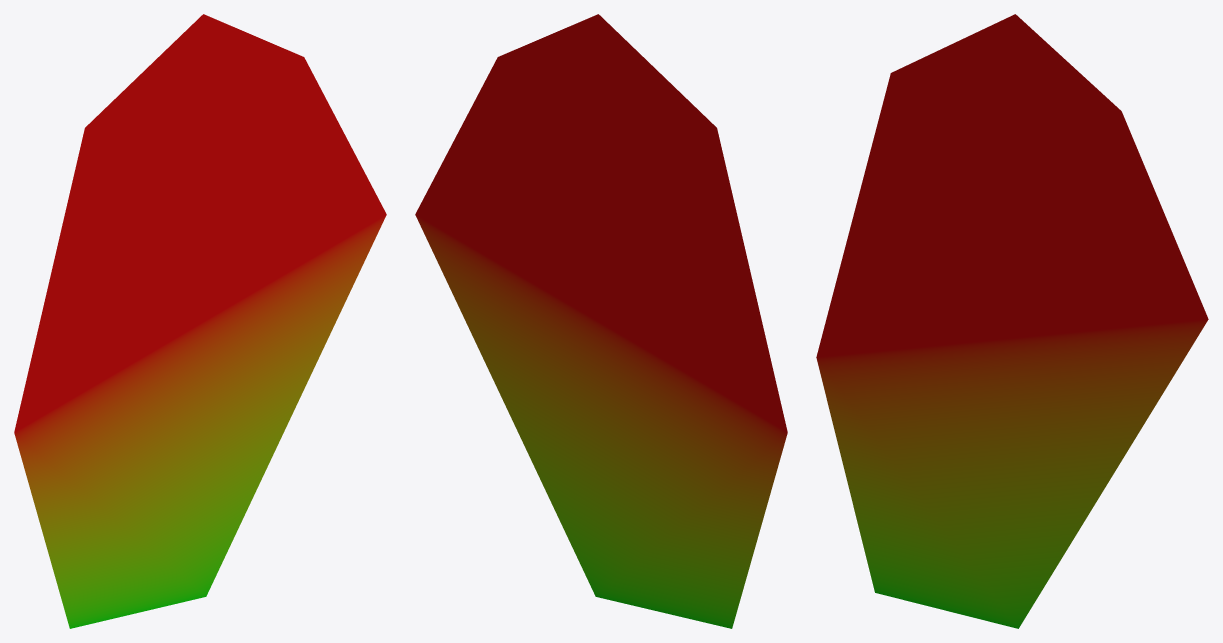
The model's file is Softstem Bulrush_LOD3_Var2_uehjcafia.fbx.
3 views of the same model, side by side, from view 1: azimuth 30°, elevation 25°; view 2: azimuth 150°, elevation 25°; view 3: azimuth 330°, elevation 25° (orthographic). The views are drawn at different scales.
Parts seen in each view (by area): view 1: _a290_Var2_LOD3; view 2: _a290_Var2_LOD3; view 3: _a290_Var2_LOD3.
Boxes of the visible parts, x1=… form: _a290_Var2_LOD3: x1=14, y1=14, x2=386, y2=628; _a290_Var2_LOD3: x1=415, y1=14, x2=787, y2=628; _a290_Var2_LOD3: x1=816, y1=14, x2=1208, y2=628.
Bounding box in the file's own units: 70.19 × 105 × 1.78e-05.
